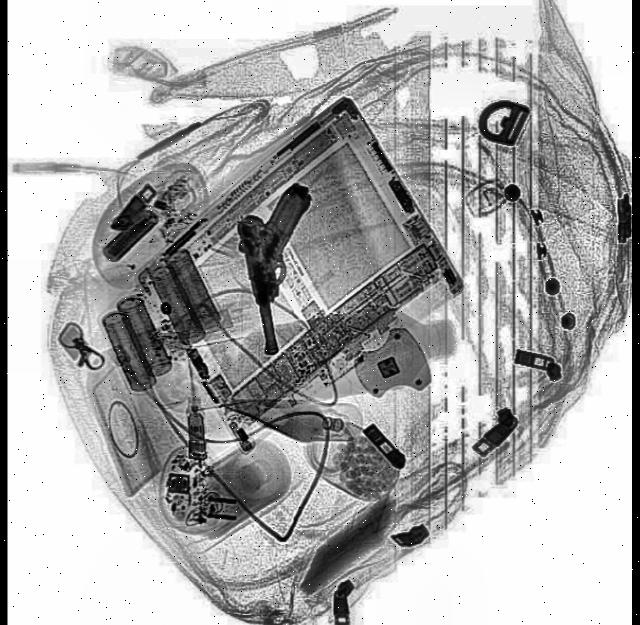Gun: (230, 183, 337, 360)
